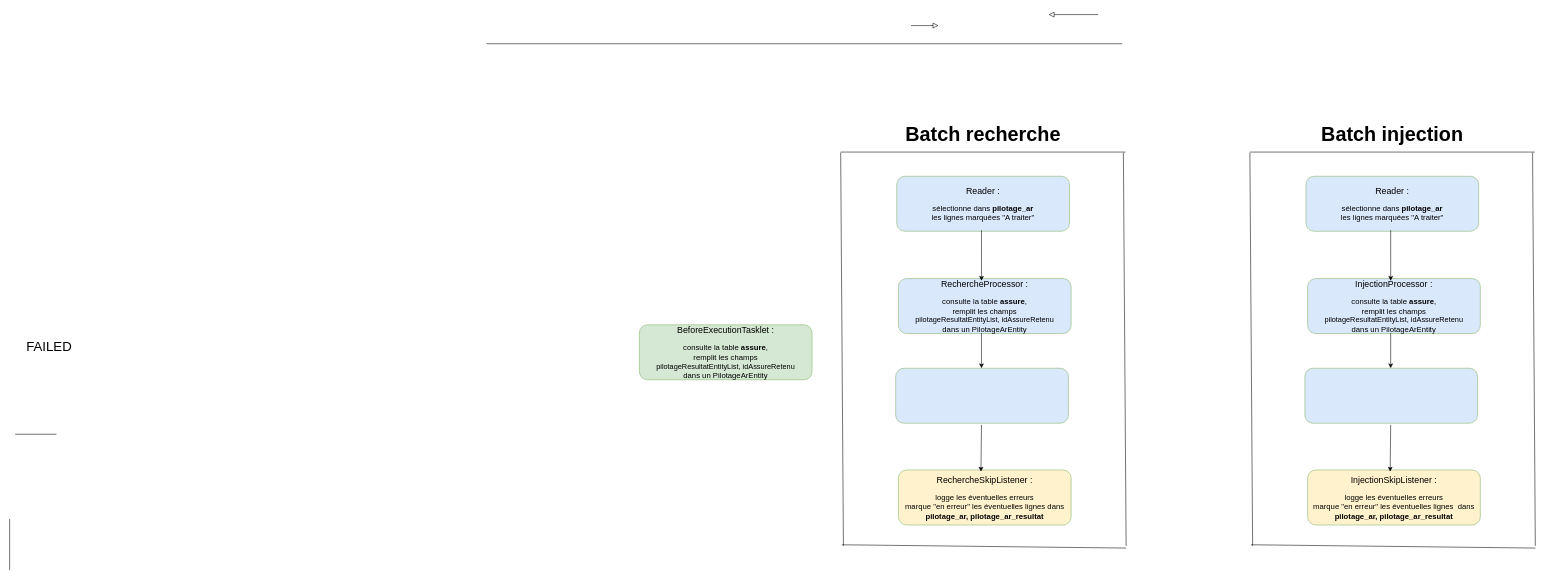
Image size: 1546x580. Some labels were removed from this diagram. Here are the shapes that lost their labels. From the top down, the box of each, then its label:
(895, 368, 1068, 423): RechercheWriter : écrit dans pilotage_ar, pilotage_ar_resultat
(1304, 368, 1478, 423): InjectionWriter : écrit dans pilotage_ar, pilotage_ar_resultat
